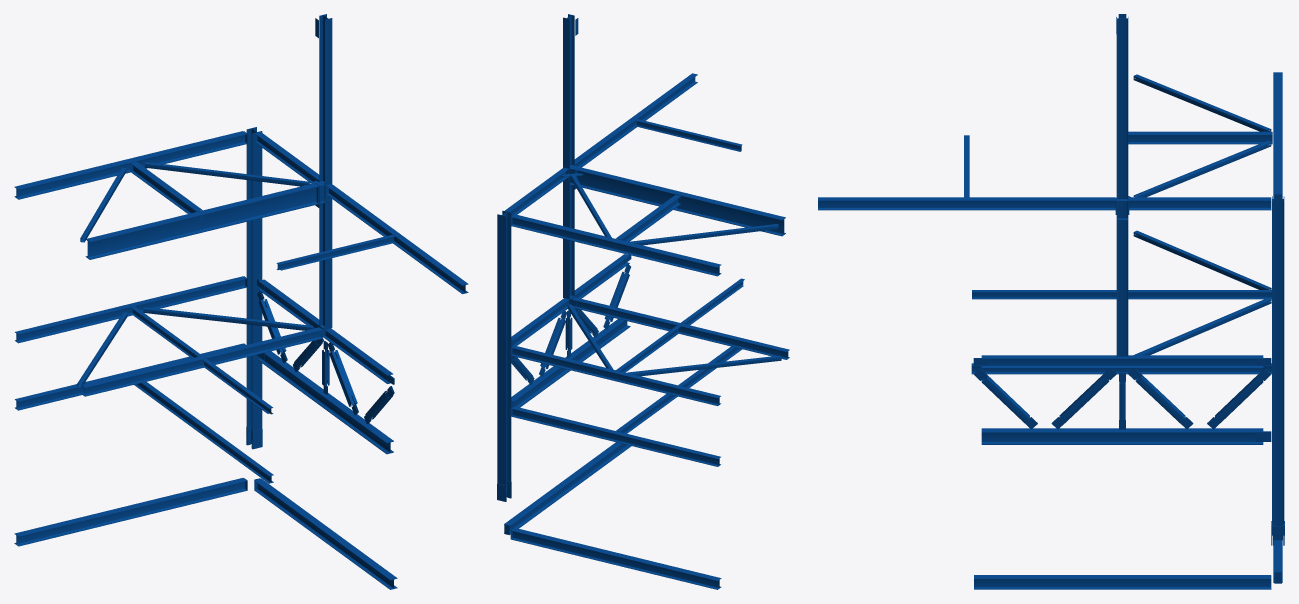
The model's file is GCC-AAV-13220-30.nwd(7).fbx.
The picture shows the model from 3 angles, left to right: view 1: azimuth 30°, elevation 25°; view 2: azimuth 150°, elevation 25°; view 3: azimuth 270°, elevation 25°; orthographic projection. The views are drawn at different scales.
Visible parts, largest first — view 1: Группа фасетов (×20); view 2: Группа фасетов (×22); view 3: Группа фасетов (×20).
Part boxes in pixels (x1,y1,x2,y2): Группа фасетов (×20): (14,14,468,589); Группа фасетов (×22): (497,14,789,589); Группа фасетов (×20): (818,17,1284,589).
Size of the model in its own units: 394 by 795 by 591.
